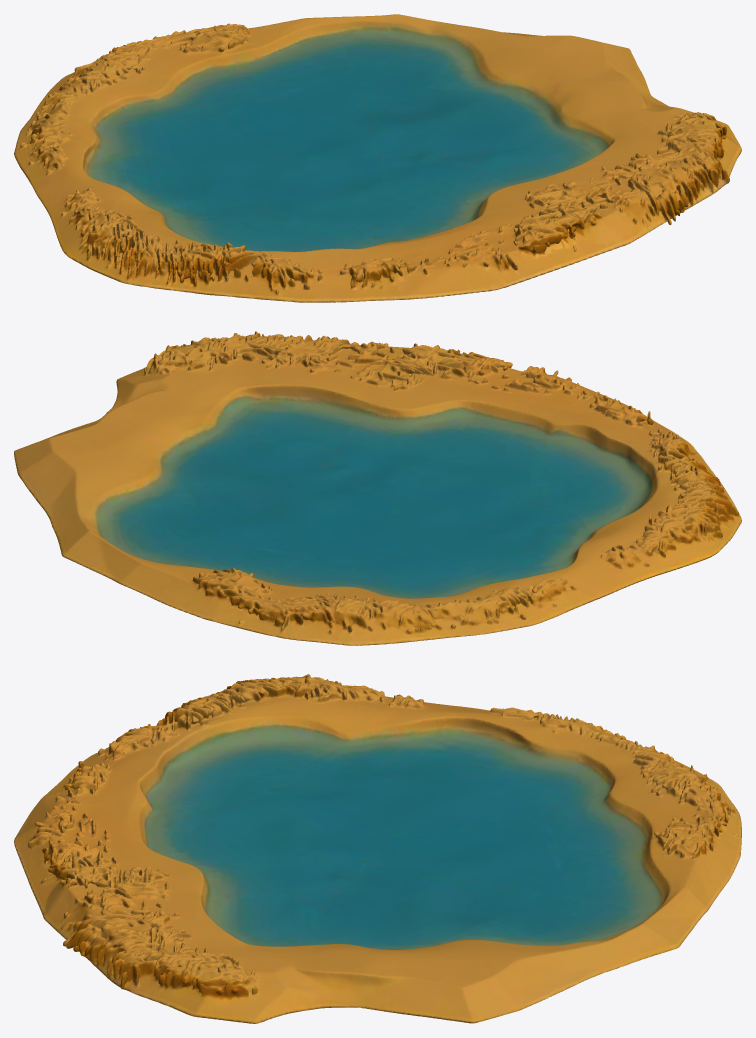
File: mesh.glb.tmp-opt.glb
The picture shows the model from 3 angles, top to bottom: view 1: azimuth 30°, elevation 25°; view 2: azimuth 150°, elevation 25°; view 3: azimuth 270°, elevation 25°; orthographic projection. The views are drawn at different scales.
Visible parts, largest first — view 1: tripo_node_2077b105-354b-4194-8078-8e823d172c96; view 2: tripo_node_2077b105-354b-4194-8078-8e823d172c96; view 3: tripo_node_2077b105-354b-4194-8078-8e823d172c96.
Part boxes in pixels (x1,y1,x2,y2): tripo_node_2077b105-354b-4194-8078-8e823d172c96: (14, 14, 741, 302); tripo_node_2077b105-354b-4194-8078-8e823d172c96: (14, 331, 741, 645); tripo_node_2077b105-354b-4194-8078-8e823d172c96: (14, 674, 741, 1023).
Size of the model in its own units: 1 by 0.0535 by 0.9188.
Materials: 1 (1 with a texture image).
